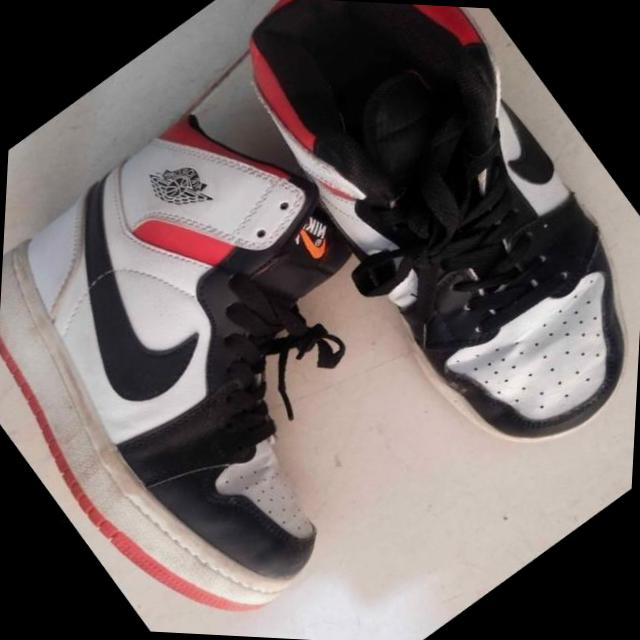nike_fake_jordan: (0, 69, 509, 640), (169, 0, 640, 489)
